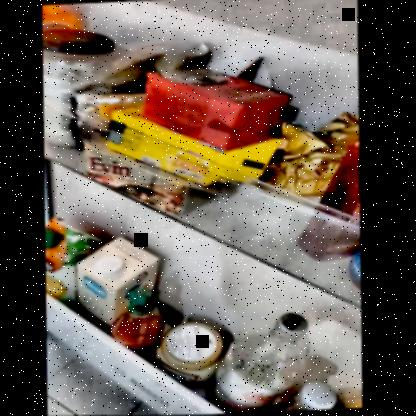butter: (80, 134, 237, 210)
heavy_cream: (144, 69, 292, 142)
milk: (79, 237, 145, 322)
